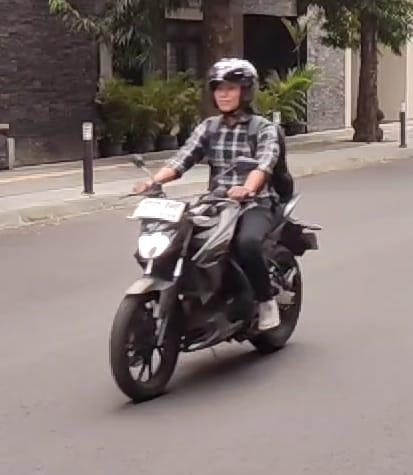helm: (206, 56, 260, 115)
riding: (109, 55, 326, 401)
